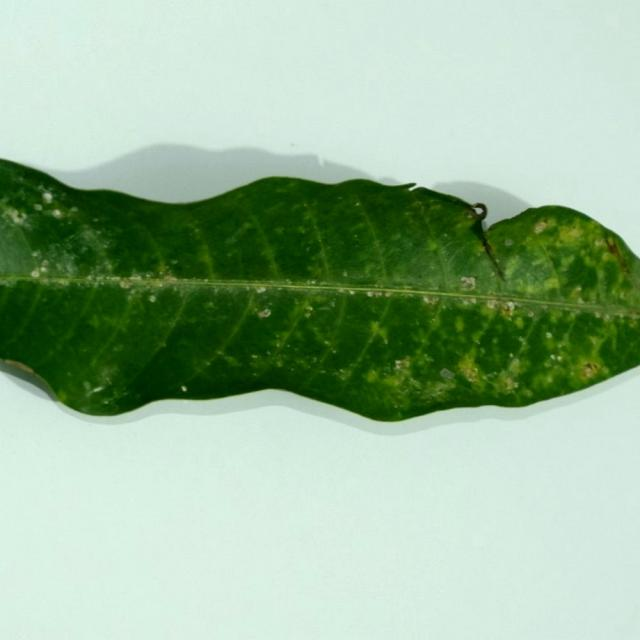Mango: (0, 159, 639, 421)
Powdery_Mildew: (279, 289, 353, 333), (92, 363, 120, 390), (485, 294, 520, 313), (4, 358, 36, 375), (456, 362, 480, 383), (562, 223, 584, 241), (541, 273, 562, 291), (6, 208, 26, 224), (582, 363, 599, 378), (452, 316, 466, 334), (605, 237, 618, 256), (364, 368, 380, 383), (502, 376, 518, 390), (460, 276, 476, 290), (366, 290, 393, 298), (511, 316, 525, 330), (407, 376, 422, 389), (425, 239, 440, 252), (534, 221, 548, 234), (587, 334, 601, 347), (338, 368, 352, 380), (395, 358, 410, 369), (441, 368, 456, 379), (423, 295, 439, 305), (162, 275, 178, 284), (128, 274, 146, 282), (571, 285, 582, 298), (258, 308, 271, 318), (120, 278, 131, 289), (42, 192, 53, 203), (86, 275, 99, 284), (274, 227, 286, 236), (52, 209, 63, 218), (594, 238, 604, 247), (256, 286, 266, 294), (523, 389, 533, 397), (83, 381, 91, 391), (550, 354, 561, 361), (41, 259, 49, 268), (31, 270, 40, 278), (632, 311, 640, 320), (504, 239, 514, 246), (148, 295, 156, 303), (33, 204, 42, 211), (595, 312, 603, 319), (276, 358, 283, 366), (545, 332, 552, 339), (519, 336, 526, 343), (466, 212, 473, 219), (366, 291, 374, 297), (469, 298, 477, 304), (338, 288, 346, 294), (206, 302, 214, 308), (70, 206, 78, 212), (404, 284, 413, 289), (304, 312, 311, 318), (604, 314, 611, 320), (342, 270, 348, 277), (171, 259, 178, 265), (217, 350, 224, 356), (181, 385, 187, 392), (32, 251, 39, 257), (245, 286, 253, 291), (330, 301, 336, 307), (286, 278, 292, 284), (474, 339, 480, 345), (306, 306, 313, 311), (349, 290, 355, 295), (252, 354, 258, 359), (313, 356, 318, 362), (203, 278, 209, 283), (509, 353, 514, 358), (355, 202, 361, 206), (442, 233, 448, 237), (267, 350, 271, 355)
